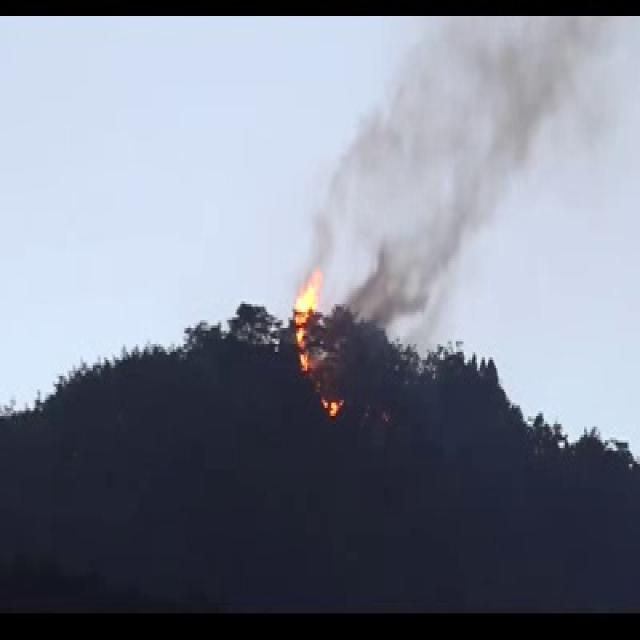smoke: (363, 19, 601, 313)
